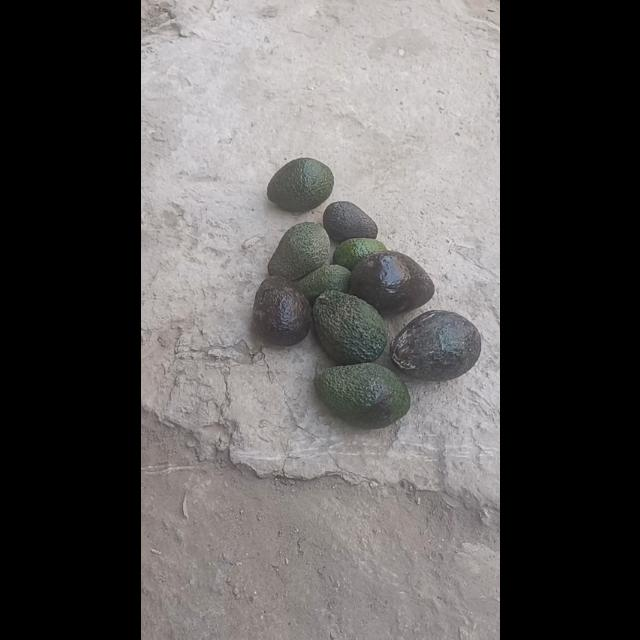Primera: (388, 308, 479, 380), (313, 362, 409, 428), (311, 288, 387, 364), (347, 250, 433, 316), (250, 276, 310, 346)
Segunda: (264, 156, 334, 212), (267, 221, 329, 279)
Tercera: (291, 263, 351, 307), (321, 200, 377, 242), (332, 237, 386, 271)
